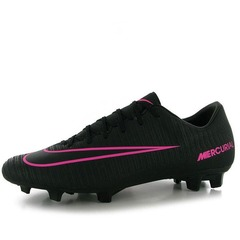nike: (22, 141, 183, 169)
